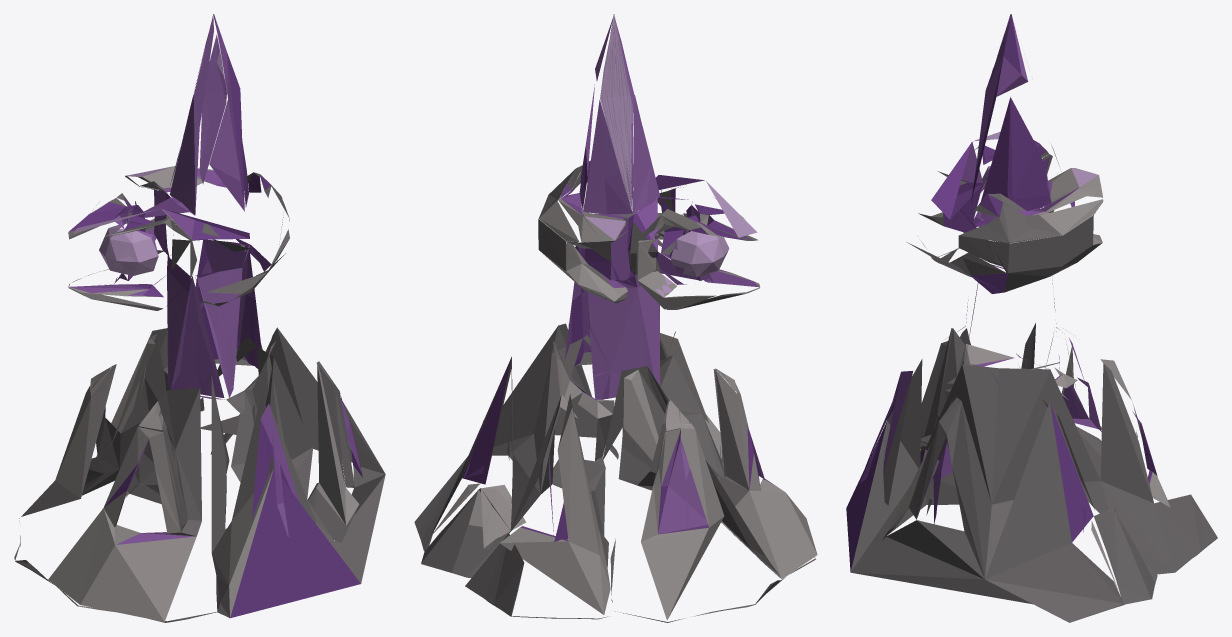
Rendered from spike-tower.glb.
3 renders of one model, left to right at view 1: azimuth 30°, elevation 25°; view 2: azimuth 150°, elevation 25°; view 3: azimuth 270°, elevation 25°, orthographic.
Parts seen in each view (by area): view 1: spike-tower; view 2: spike-tower; view 3: spike-tower.
Boxes of the visible parts, x1,y1,x2,y2 form: spike-tower: (14,14,385,622); spike-tower: (414,14,817,622); spike-tower: (846,14,1217,622).
Size of the model in its own units: 9.5 by 14 by 8.95.
